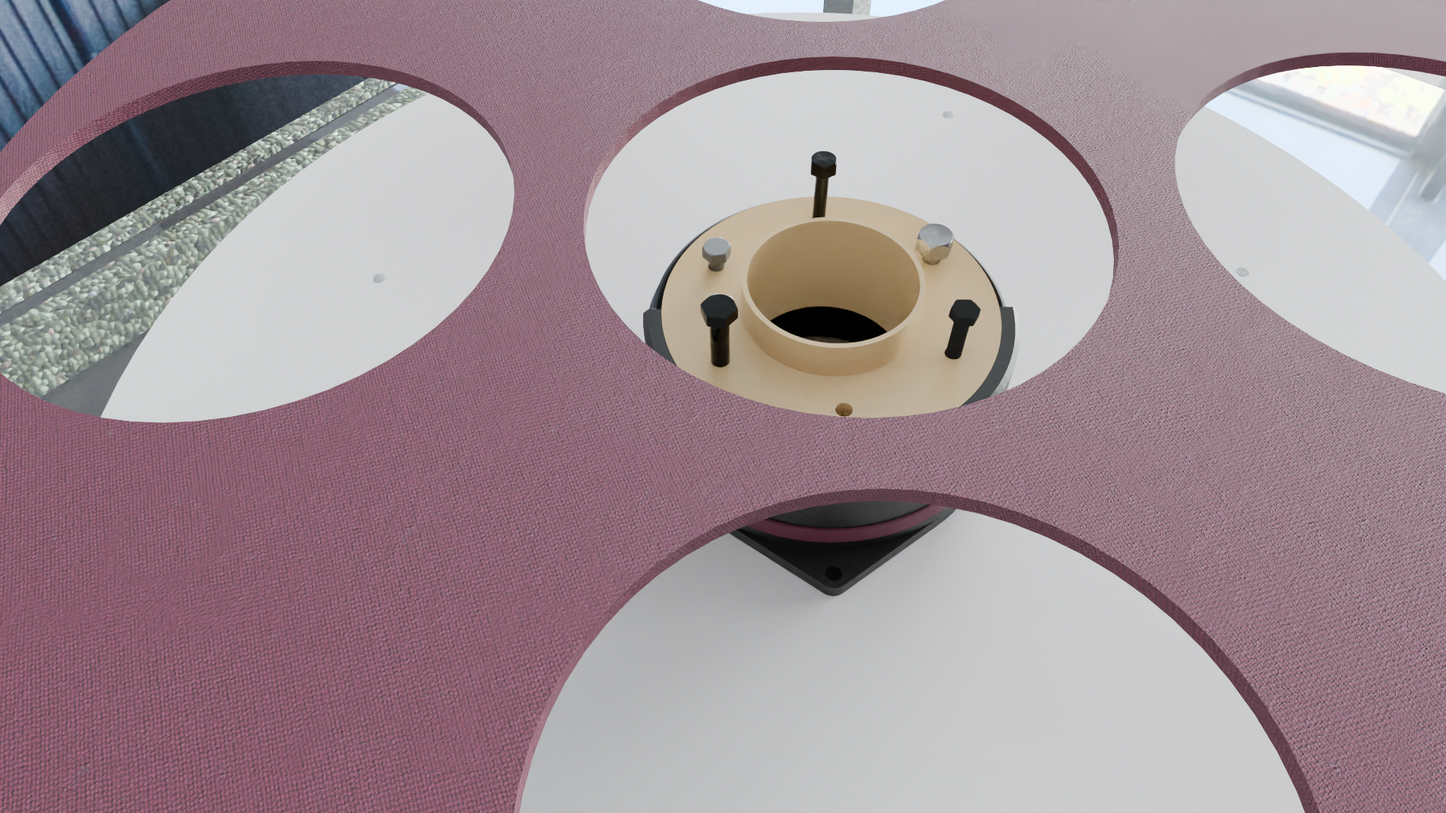bolt: (917, 224, 954, 250), (700, 294, 738, 319), (950, 300, 981, 319), (702, 237, 731, 257), (811, 151, 837, 170)
